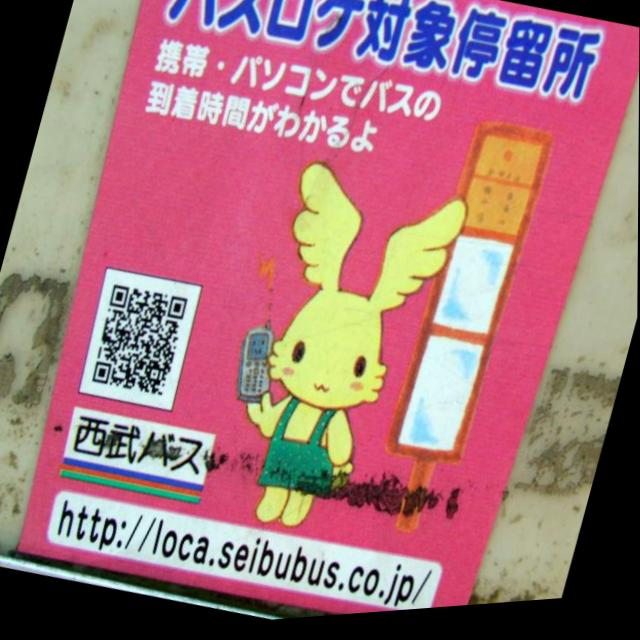qrcode: (89, 282, 191, 403)
